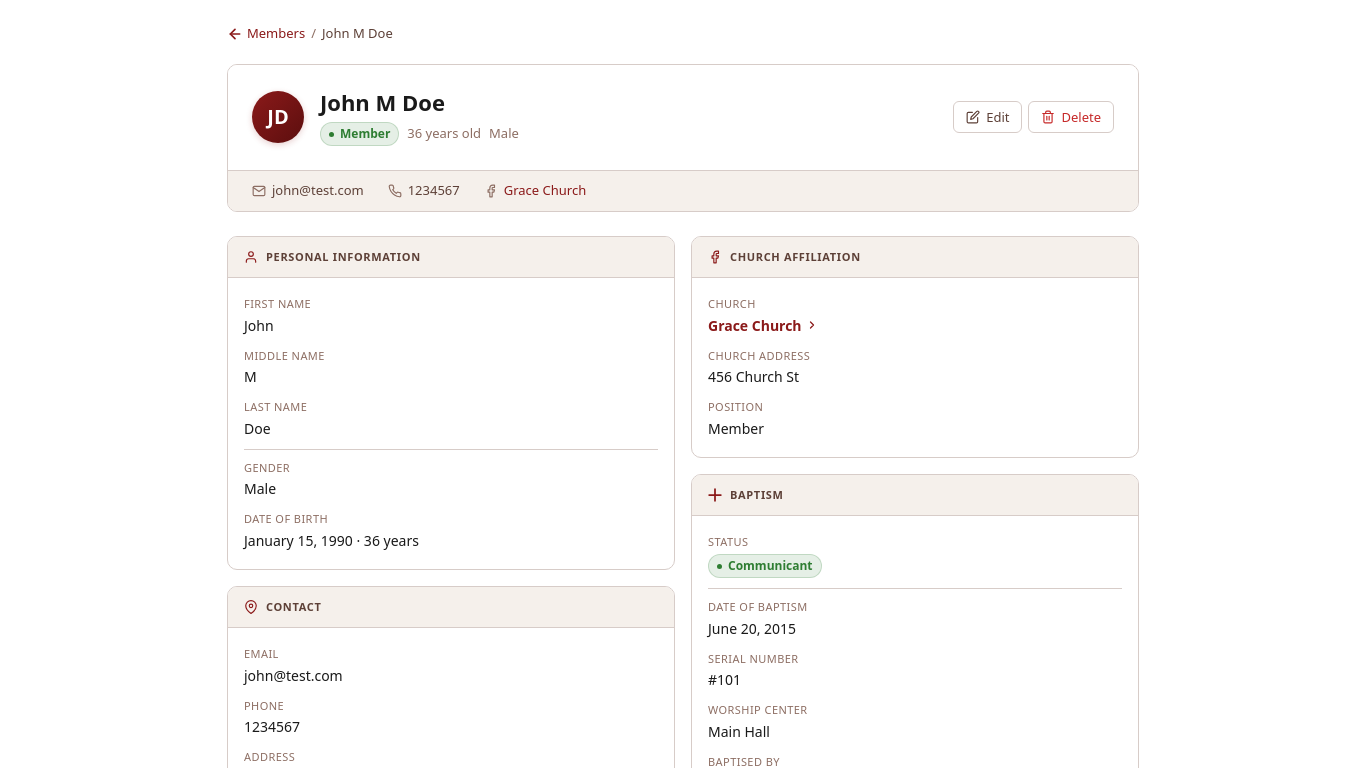
it: PersonDetail › closes edit form via overlay click
What coordinates should you click on to do the following:
click the button "Edit"
I would click on:
 (988, 117)
Its box is [953,101,1022,133].
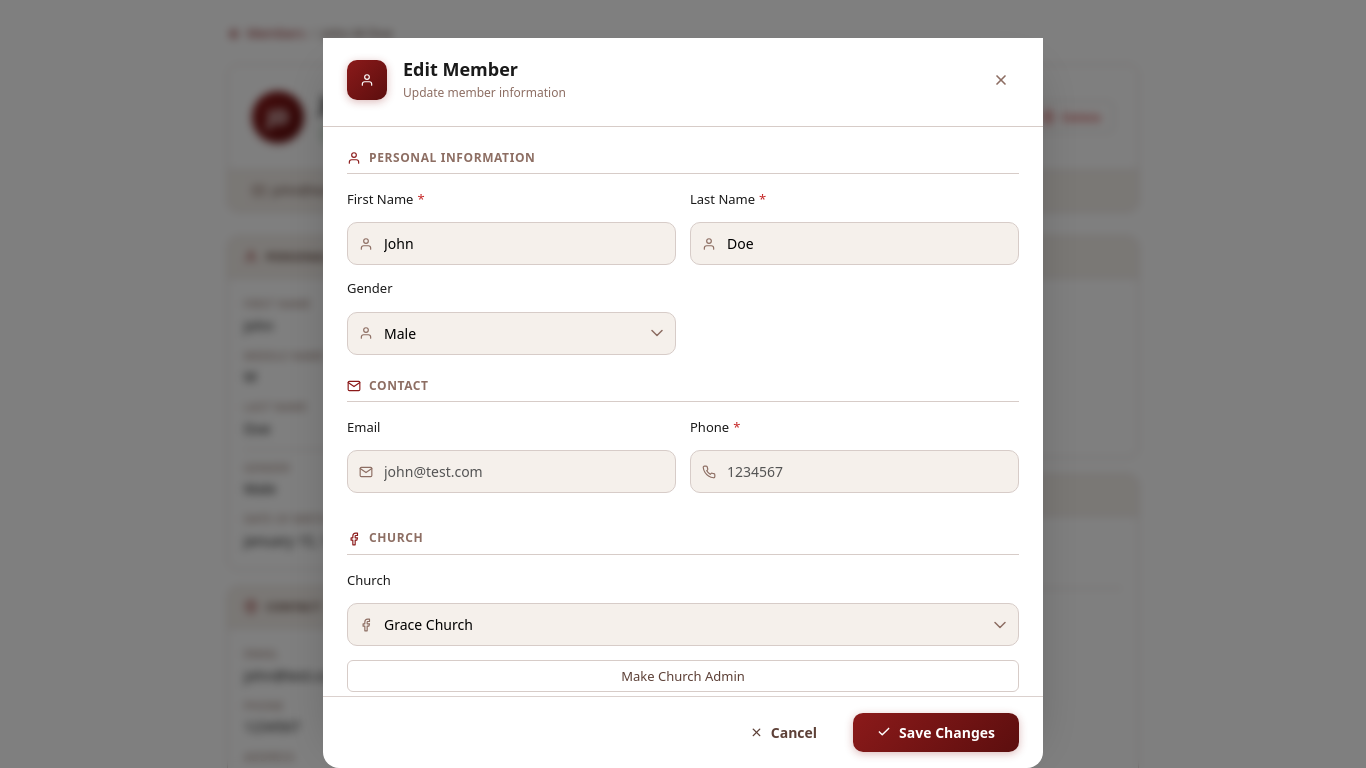
What coordinates should you click on to do the following:
click the element with class "mf-overlay"
I would click on:
 (82, 384)
Its box is [0,0,1365,767].
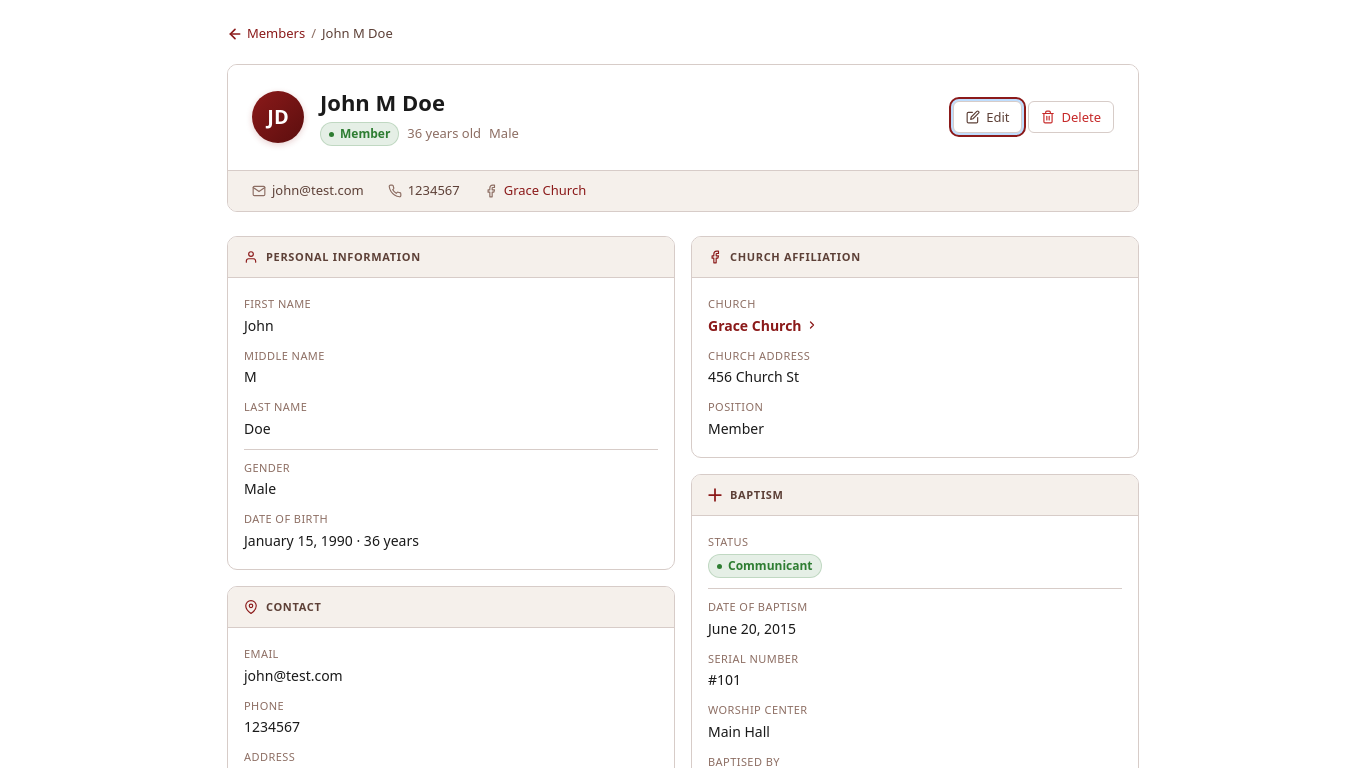
Now the heading "Edit Member" is gone
